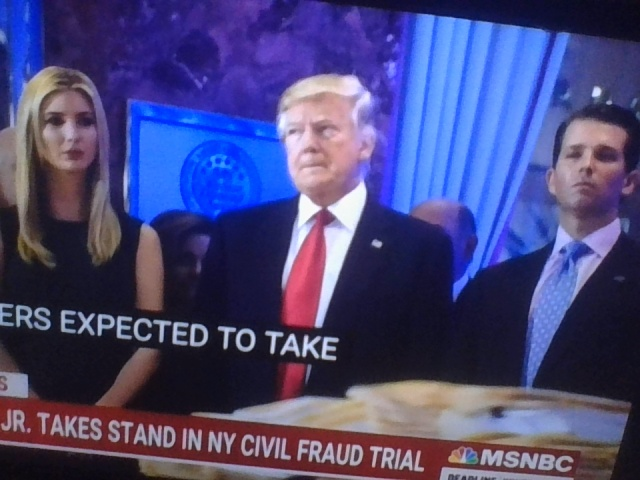fake: (268, 32, 391, 207)
